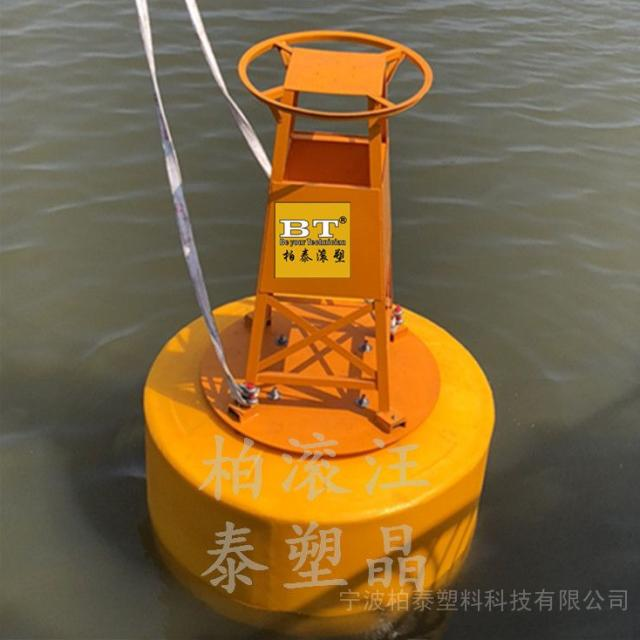buoy: (124, 24, 499, 622)
